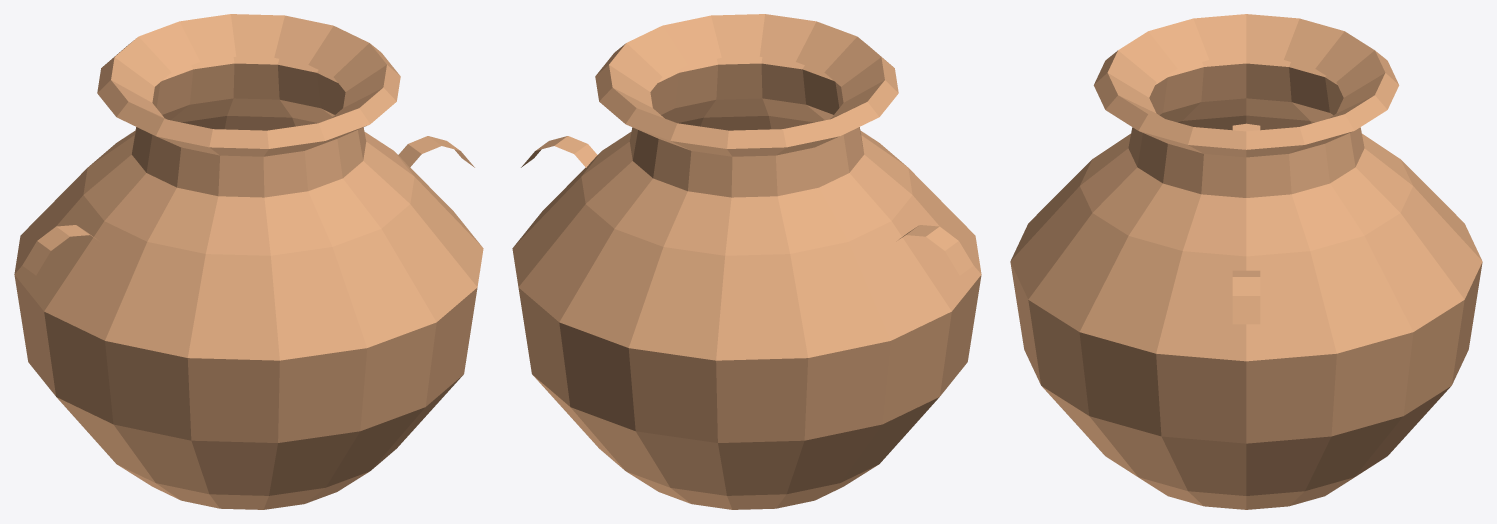
The model's file is Pot.glb.
3 views of the same model, side by side, from view 1: azimuth 30°, elevation 25°; view 2: azimuth 150°, elevation 25°; view 3: azimuth 270°, elevation 25° (orthographic).
Visible parts, largest first — view 1: Pot; view 2: Pot; view 3: Pot.
Part boxes in pixels (box(x1,y1,x2,y2)): Pot: box(14, 14, 483, 509); Pot: box(512, 14, 981, 509); Pot: box(1010, 14, 1482, 509).
Size of the model in its own units: 0.7294 by 0.62 by 0.68.
